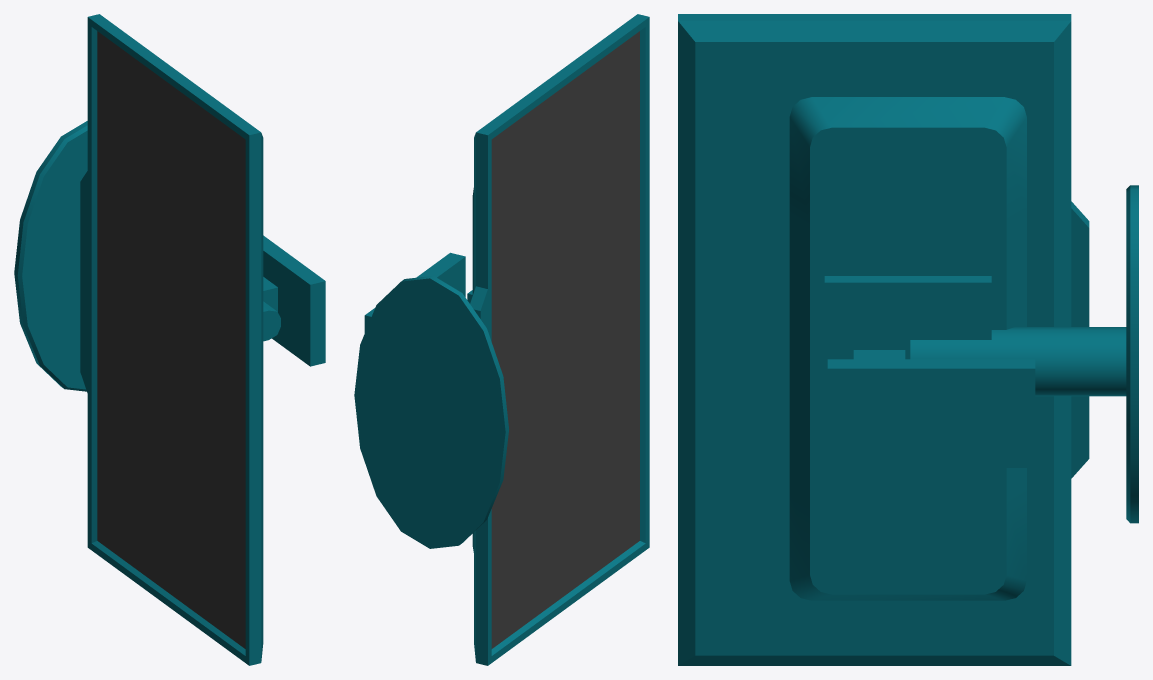
3 renders of one model, left to right at view 1: azimuth 30°, elevation 25°; view 2: azimuth 150°, elevation 25°; view 3: azimuth 270°, elevation 25°, orthographic. The views are drawn at different scales.
Parts seen in each view (by area): view 1: tv, tv_stand, tv_mount; view 2: tv, tv_stand, tv_mount; view 3: tv, tv_mount, tv_stand.
Boxes of the visible parts, x1,y1,x2,y2 form: tv: (80,14,263,665); tv_stand: (14,121,87,391); tv_mount: (263,235,325,366); tv: (470,14,649,665); tv_stand: (354,276,508,548); tv_mount: (364,252,472,332); tv: (678,14,1089,665); tv_mount: (824,276,1035,467); tv_stand: (910,185,1138,523).
Size of the model in its own units: 0.6316 by 1.75 by 1.13.
